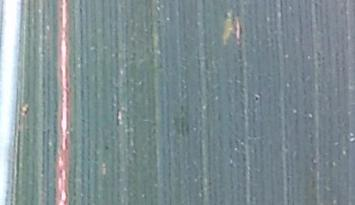tarspot: (254, 94, 260, 103)
